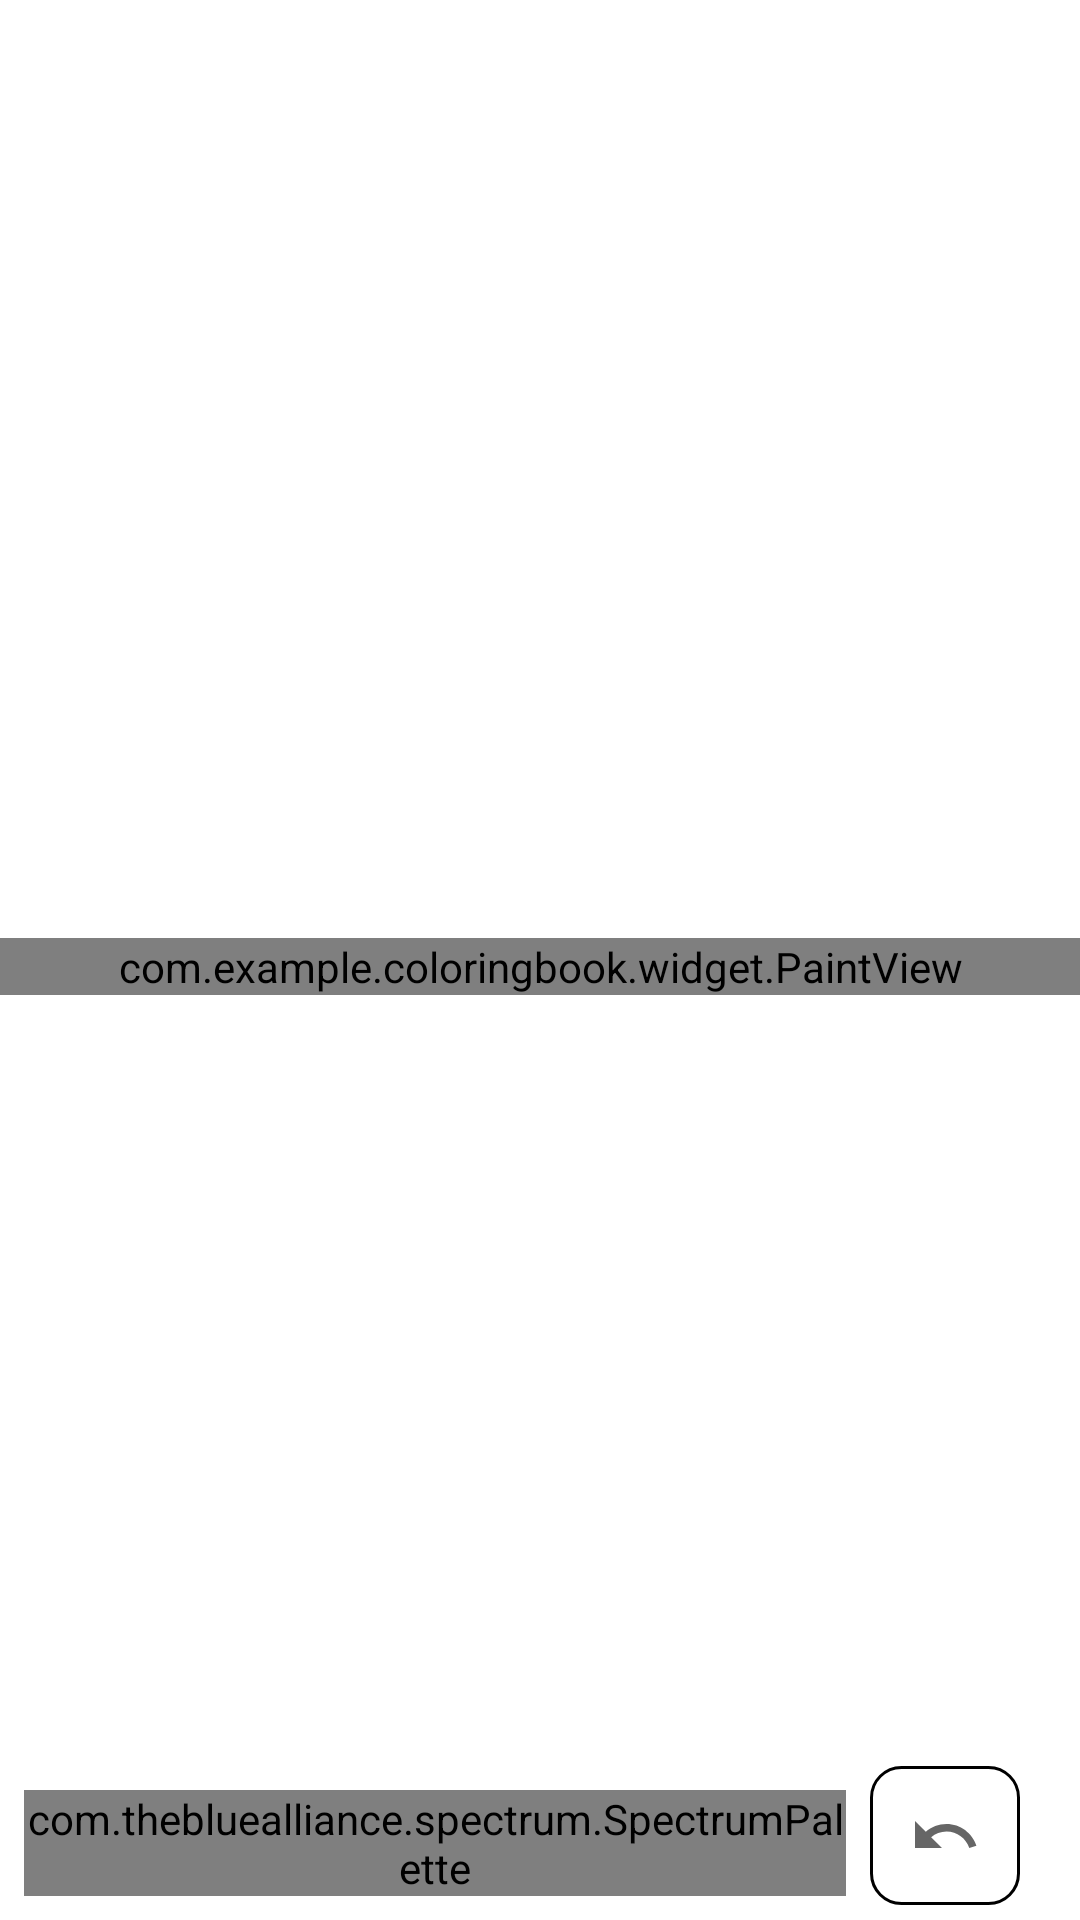

Point at icon controls on the screen. Image size 1080*1920, points as [x,y].
undo: [945,1835]
